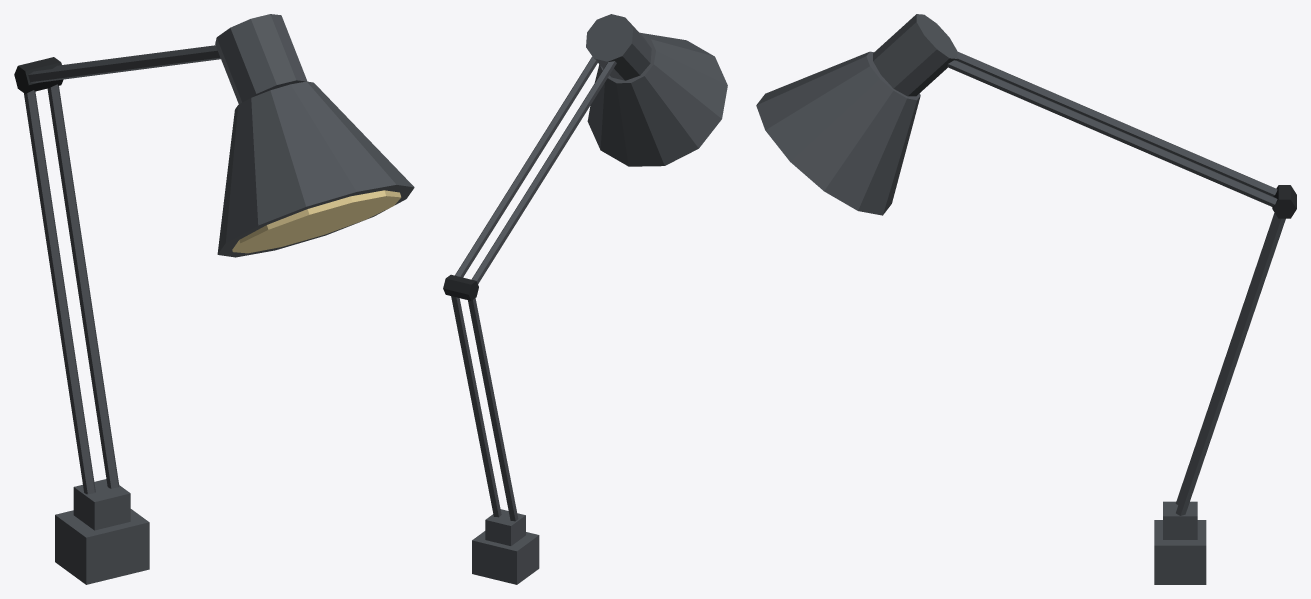
File: desk_lamp.glb
3 views of the same model, side by side, from view 1: azimuth 30°, elevation 25°; view 2: azimuth 150°, elevation 25°; view 3: azimuth 270°, elevation 25° (orthographic). The views are drawn at different scales.
Visible parts, largest first — view 1: desk_lamp; view 2: desk_lamp; view 3: desk_lamp.
Part boxes in pixels (x1,y1,x2,y2): desk_lamp: (14,14,414,584); desk_lamp: (443,14,727,584); desk_lamp: (756,14,1296,584).
Size of the model in its own units: 0.2 by 0.7035 by 0.6221.
